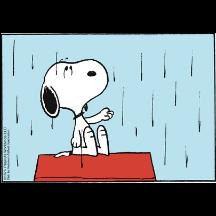snoopy: (39, 59, 114, 159)
